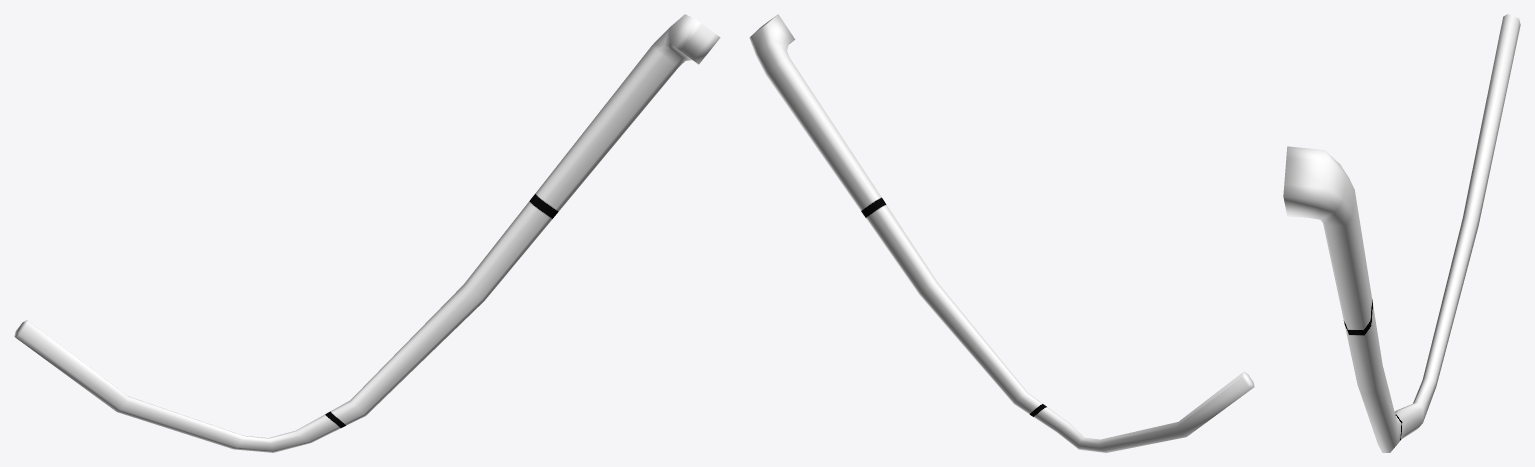
The model's file is Ranke_v2.fbx.
3 renders of one model, left to right at view 1: azimuth 30°, elevation 25°; view 2: azimuth 150°, elevation 25°; view 3: azimuth 270°, elevation 25°, orthographic. The views are drawn at different scales.
Parts seen in each view (by area): view 1: Ranke_v2; view 2: Ranke_v2; view 3: Ranke_v2.
Part boxes in pixels (x1,y1,x2,y2): Ranke_v2: (14, 14, 720, 452); Ranke_v2: (749, 14, 1254, 452); Ranke_v2: (1283, 14, 1520, 452).
Size of the model in its own units: 1508 by 841 by 316.
